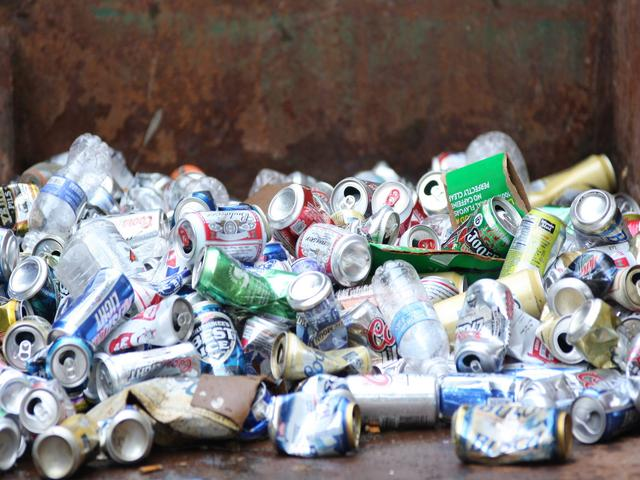garbage: (5, 188, 627, 420)
